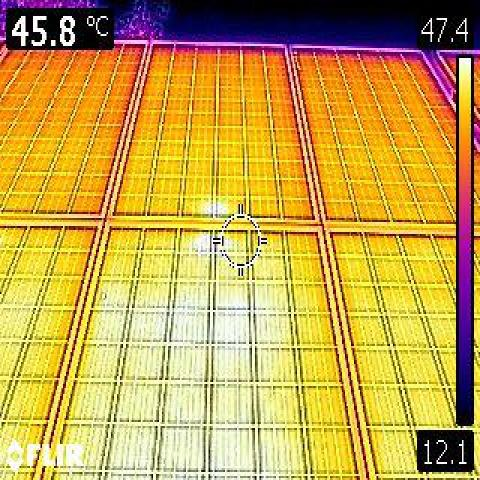fault: (199, 233, 229, 257)
